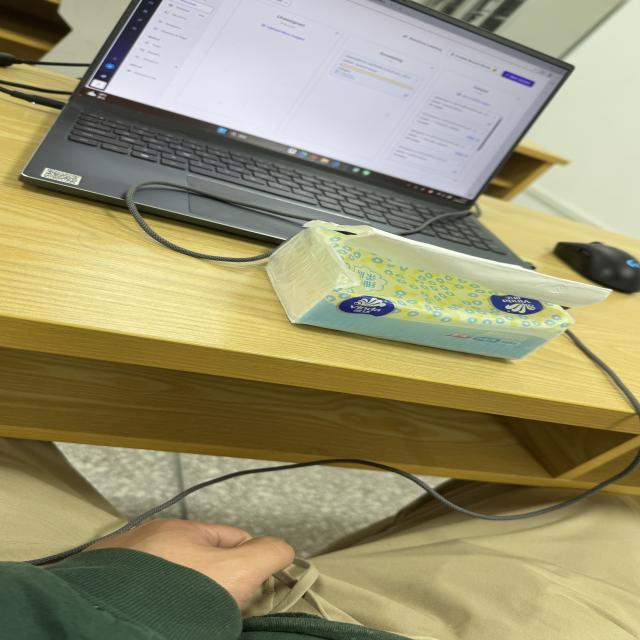tissue: (268, 222, 609, 359)
